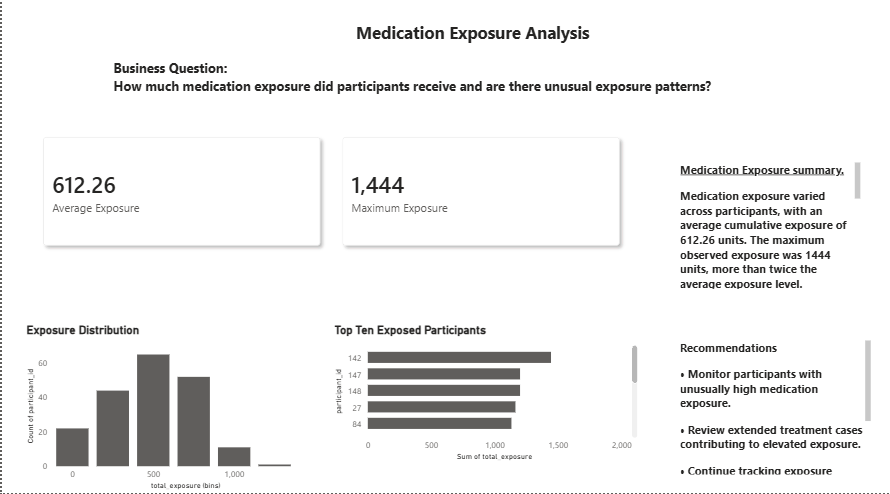

The page's visual inventory and layout, read from the dashboard file:
{"tool":"powerbi","page":{"name":"Exposure Analysis","canvas":[1280,720],"ordinal":2},"visuals":[{"type":"textbox","box":[498.9,35.3,389.7,55.4],"z":0},{"type":"textbox","box":[156.2,90.7,937.3,65.5],"z":1000},{"type":"clusteredColumnChart","title":"Exposure Distribution","fields":{"Category":["public participant_dashboard.total_exposure (bins)"],"Y":["CountNonNull(public participant_dashboard.participant_id)"]},"box":[30.2,475.4,428.3,245.2],"z":2000},{"type":"clusteredBarChart","title":"Top Ten Exposed Participants","fields":{"Category":["public participant_dashboard.participant_id"],"Y":["Sum(public participant_dashboard.total_exposure)"]},"box":[473.8,475.2,446.4,203],"z":4000},{"type":"textbox","box":[972,495.4,283.7,203],"z":5000},{"type":"textbox","box":[972,239,269.3,191.5],"z":6000},{"type":"cardVisual","fields":{"Data":["Participant_Summary.Average Exposure","Participant_Summary.Maximum Exposure"]},"box":[30.2,178.6,889.9,214.6],"z":7000}]}

Visuals, with their boxes in screenshot pixels (x1, y1, x2, y2), scaled from the page's 1280x720 canvas onto the 890x494 screenshot:
textbox: bbox(347, 24, 618, 62)
textbox: bbox(109, 62, 760, 107)
"Exposure Distribution" clusteredColumnChart: bbox(21, 326, 319, 493)
"Top Ten Exposed Participants" clusteredBarChart: bbox(329, 326, 640, 465)
textbox: bbox(676, 340, 873, 479)
textbox: bbox(676, 164, 863, 295)
cardVisual - Participant_Summary.Average Exposure x Participant_Summary.Maximum Exposure: bbox(21, 123, 640, 270)
